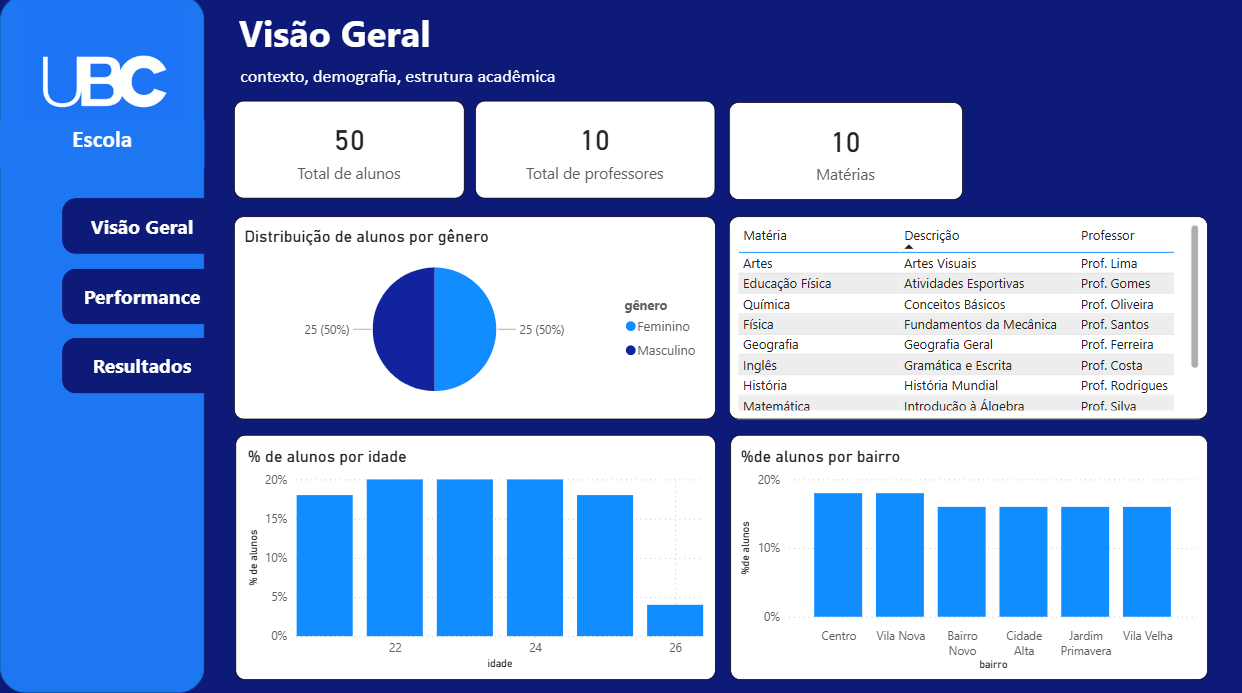

The page's visual inventory and layout, read from the dashboard file:
{"tool":"powerbi","page":{"name":"Visão Geral","canvas":[1280,720],"ordinal":0},"visuals":[{"type":"textbox","box":[241.7,8.9,399,69.7],"z":0},{"type":"textbox","box":[243.2,66.7,446.4,43],"z":1000},{"type":"shape","box":[0,0,210.6,719.3],"z":2000},{"type":"card","fields":{"Values":["escolaUbc Alunos.Total de alunos"]},"box":[241,108.9,237.7,100.7],"z":3000},{"type":"card","fields":{"Values":["escolaUbc Materias.professor"]},"box":[490.2,108.9,247.6,100.7],"z":4000},{"type":"clusteredColumnChart","fields":{"Category":["escolaUbc Alunos.idade"],"Y":["escolaUbc Alunos.Total de alunos"]},"box":[242.6,453.2,495.3,252.8],"z":5000},{"type":"clusteredColumnChart","fields":{"Category":["escolaUbc Alunos.bairro"],"Y":["escolaUbc Alunos.Total de alunos"]},"box":[752.5,453.2,492.4,252.8],"z":6000},{"type":"pieChart","fields":{"Category":["escolaUbc Alunos.genero"],"Y":["escolaUbc Alunos.Total de alunos"]},"box":[241.1,228.1,496.8,209.2],"z":7000},{"type":"card","fields":{"Values":["escolaUbc Materias.total_materias"]},"box":[750.9,110.6,241,100.7],"z":8000},{"type":"tableEx","fields":{"Values":["escolaUbc Materias.nome_materia","escolaUbc Materias.descricao","escolaUbc Materias.professor"]},"box":[751,228.1,493.9,209.2],"z":9000},{"type":"shape","title":"Visão Geral","box":[64.4,209.6,165,57.8],"z":10000},{"type":"shape","box":[64.4,282.2,165,57.8],"z":11000},{"type":"image","box":[24.8,8.3,163.4,168.3],"z":12000},{"type":"textbox","box":[0,129,210.6,48.9],"z":13000},{"type":"shape","box":[64,353,165,57.8],"z":14000}]}

Visuals, with their boxes in screenshot pixels (x1, y1, x2, y2), scaled from the page's 1280x720 canvas onto the 1242x693 screenshot:
textbox: crop(235, 9, 622, 76)
textbox: crop(236, 64, 669, 106)
shape: crop(0, 0, 204, 692)
card - escolaUbc Alunos.Total de alunos: crop(234, 105, 464, 202)
card - escolaUbc Materias.professor: crop(476, 105, 716, 202)
clusteredColumnChart - escolaUbc Alunos.idade x escolaUbc Alunos.Total de alunos: crop(235, 436, 716, 680)
clusteredColumnChart - escolaUbc Alunos.bairro x escolaUbc Alunos.Total de alunos: crop(730, 436, 1208, 680)
pieChart - escolaUbc Alunos.genero x escolaUbc Alunos.Total de alunos: crop(234, 220, 716, 421)
card - escolaUbc Materias.total_materias: crop(729, 106, 962, 203)
tableEx - escolaUbc Materias.nome_materia x escolaUbc Materias.descricao: crop(729, 220, 1208, 421)
"Visão Geral" shape: crop(62, 202, 223, 257)
shape: crop(62, 272, 223, 327)
image: crop(24, 8, 183, 170)
textbox: crop(0, 124, 204, 171)
shape: crop(62, 340, 222, 395)
